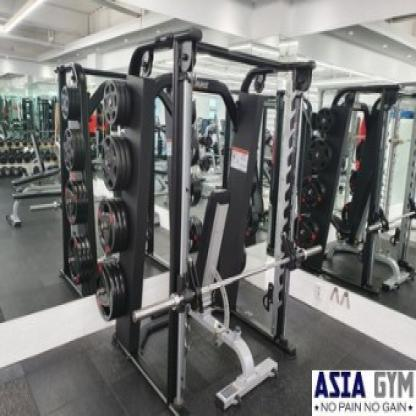smith machine: (100, 28, 311, 416)
